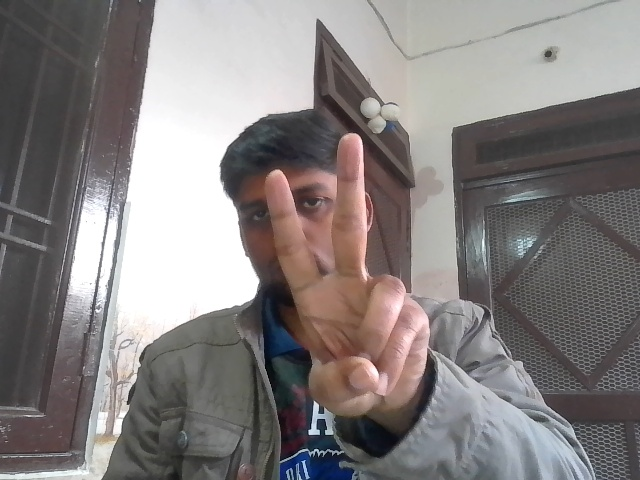Enjoy: (258, 130, 435, 420)
